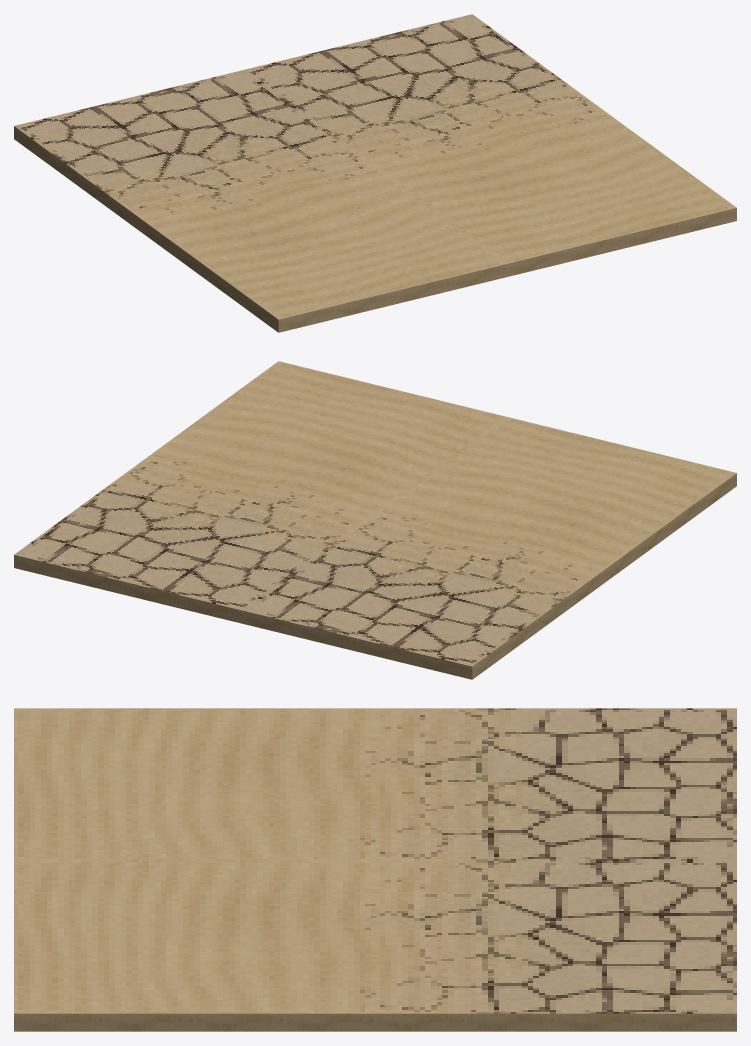
The model's file is desert_edge.glb.
3 renders of one model, top to bottom at view 1: azimuth 30°, elevation 25°; view 2: azimuth 150°, elevation 25°; view 3: azimuth 270°, elevation 25°, orthographic. The views are drawn at different scales.
Visible parts, largest first — view 1: desert_edge; view 2: desert_edge; view 3: desert_edge.
Part boxes in pixels (x1,y1,x2,y2): desert_edge: (14,14,736,332); desert_edge: (14,361,736,679); desert_edge: (14,708,736,1031).
Size of the model in its own units: 4 by 0.11 by 4.
1 material, 1 textured.
